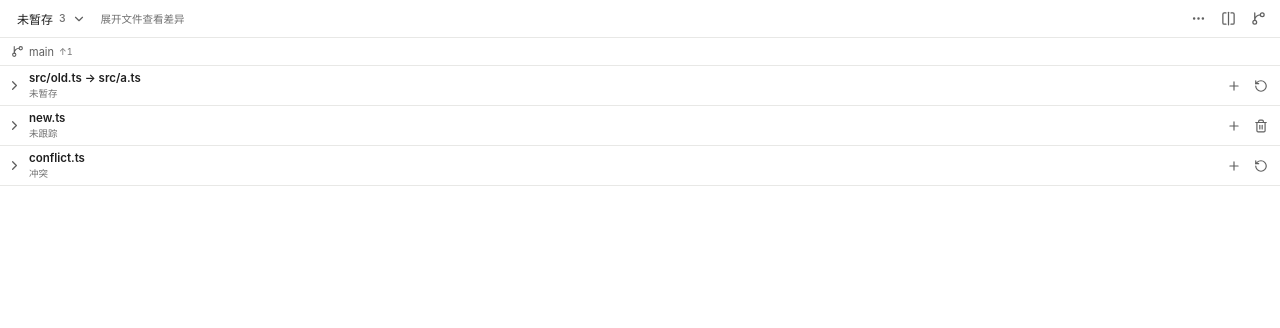
Test: GitReviewPanel › 刷新期间保留展开卡片并忽略较早请求的迟到结果
Expected: the text "main" is shown, [29,44,54,58]
Click the button with aria-label "展开 new.ts" at (47, 118), box [4,109,1169,142]
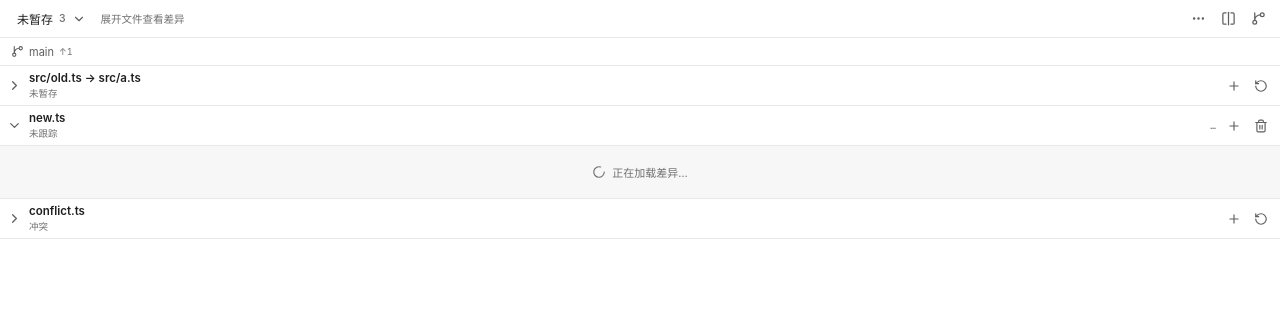
Click the button named "差异操作" at (1198, 18), box [1184,4,1212,32]
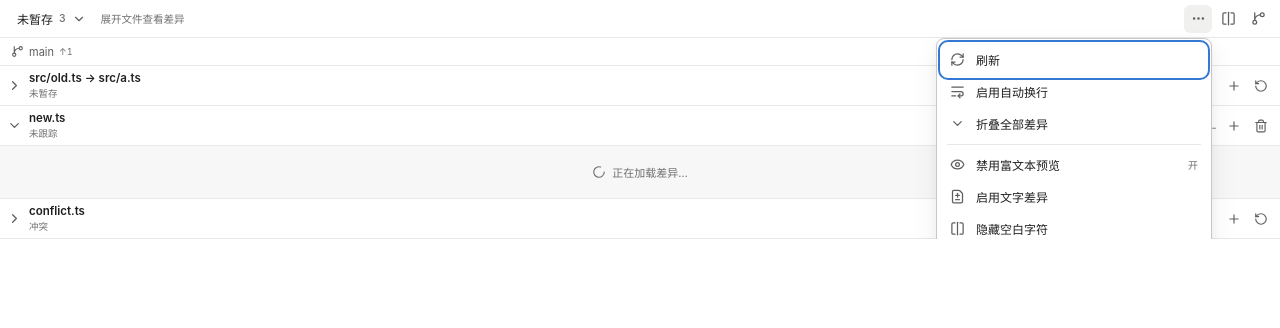
Click the menu item "刷新" at (958, 60), box [942,44,1206,76]
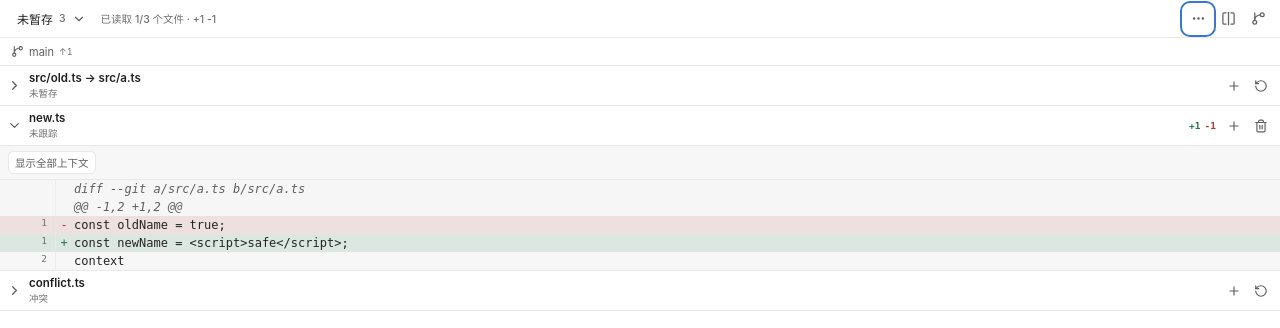
Now the button with aria-label "折叠 new.ts" is shown, box [4,109,1169,142]
Now the text "已读取 1/3 个文件 · +1 -1" is shown, box [101,11,216,26]
Now the text "<script>safe</script>" is shown, box [190,236,341,250]
